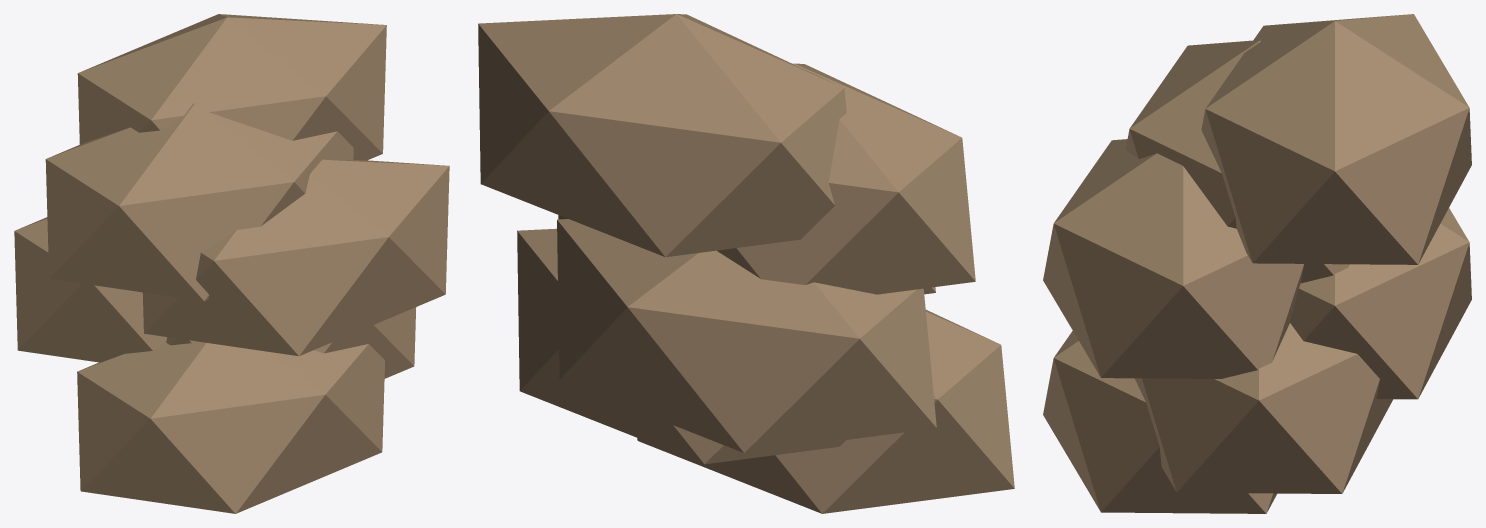
Rendered from item_020_roots_l.glb.
3 renders of one model, left to right at view 1: azimuth 30°, elevation 25°; view 2: azimuth 150°, elevation 25°; view 3: azimuth 270°, elevation 25°, orthographic. The views are drawn at different scales.
Visible parts, largest first — view 1: item_020_roots_l; view 2: item_020_roots_l; view 3: item_020_roots_l.
Boxes of the visible parts, <box> form: item_020_roots_l: <box>14,14,449,513</box>; item_020_roots_l: <box>478,14,1014,513</box>; item_020_roots_l: <box>1043,14,1471,513</box>.
Bounding box in the file's own units: 0.4074 × 0.4405 × 0.3393.
